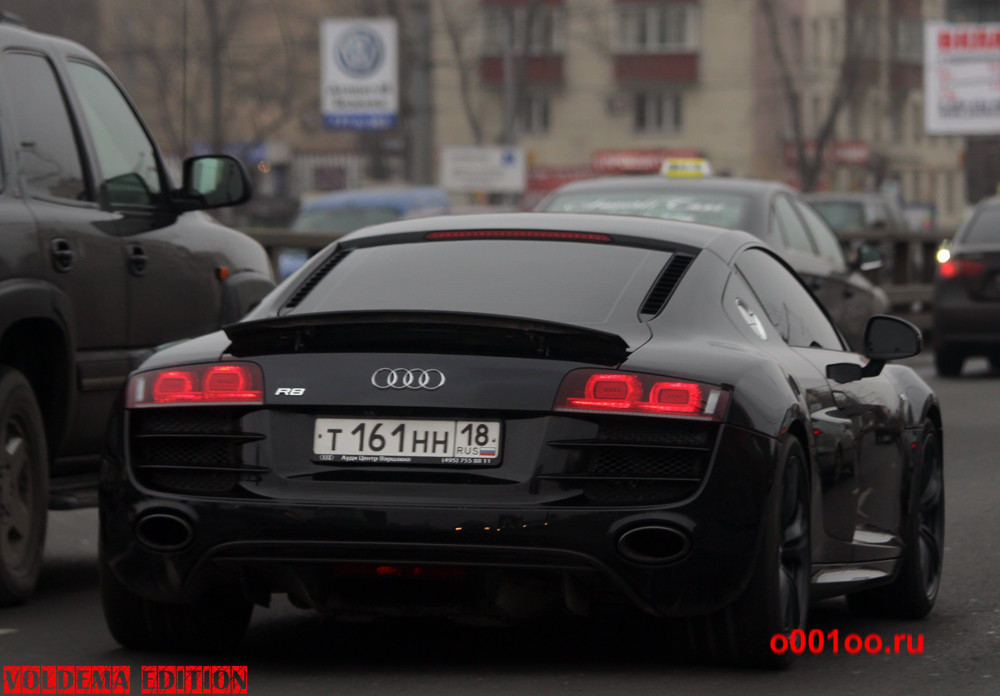number_plate: (314, 415, 503, 456)
